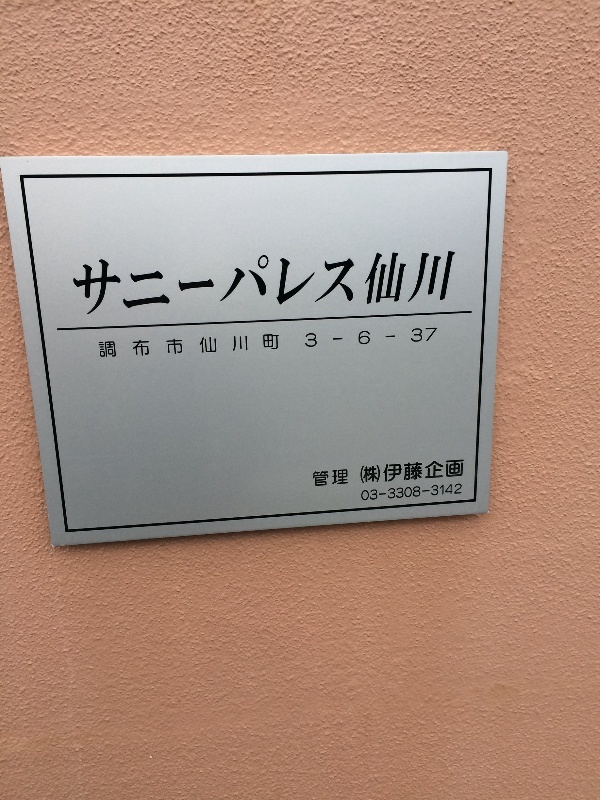text: (81, 246, 96, 319), (97, 246, 112, 319), (113, 246, 128, 319), (129, 246, 144, 319), (145, 246, 160, 319), (161, 246, 176, 319), (177, 246, 192, 319), (193, 246, 208, 319), (209, 246, 224, 319), (225, 246, 240, 319), (241, 246, 256, 319), (257, 246, 272, 319), (273, 246, 288, 319), (289, 246, 304, 319), (305, 246, 320, 319), (321, 246, 336, 319), (337, 246, 352, 319), (353, 246, 368, 319), (369, 246, 384, 319), (385, 246, 400, 319), (401, 246, 416, 319), (417, 246, 432, 319), (433, 246, 448, 319), (449, 246, 458, 319), (72, 246, 80, 319), (97, 330, 112, 364), (113, 330, 128, 364), (129, 330, 144, 364), (145, 330, 160, 364), (161, 330, 176, 364), (177, 330, 192, 364), (193, 330, 208, 364), (209, 330, 224, 364), (225, 330, 240, 364), (241, 330, 256, 364), (257, 330, 272, 364), (369, 455, 384, 484), (385, 455, 400, 484), (401, 455, 416, 484), (417, 455, 432, 484), (433, 455, 448, 484), (449, 455, 464, 484), (305, 327, 320, 352), (321, 327, 336, 352), (337, 327, 352, 352), (353, 327, 368, 352), (369, 327, 384, 352), (385, 327, 400, 352), (401, 327, 416, 352), (417, 327, 432, 352), (321, 466, 336, 489), (369, 482, 384, 503), (385, 482, 400, 503), (401, 482, 416, 503), (417, 482, 432, 503), (433, 482, 448, 503), (337, 466, 349, 489), (449, 482, 462, 503), (273, 330, 281, 364), (433, 327, 442, 352), (361, 455, 368, 484), (312, 466, 320, 489), (361, 482, 368, 503)
